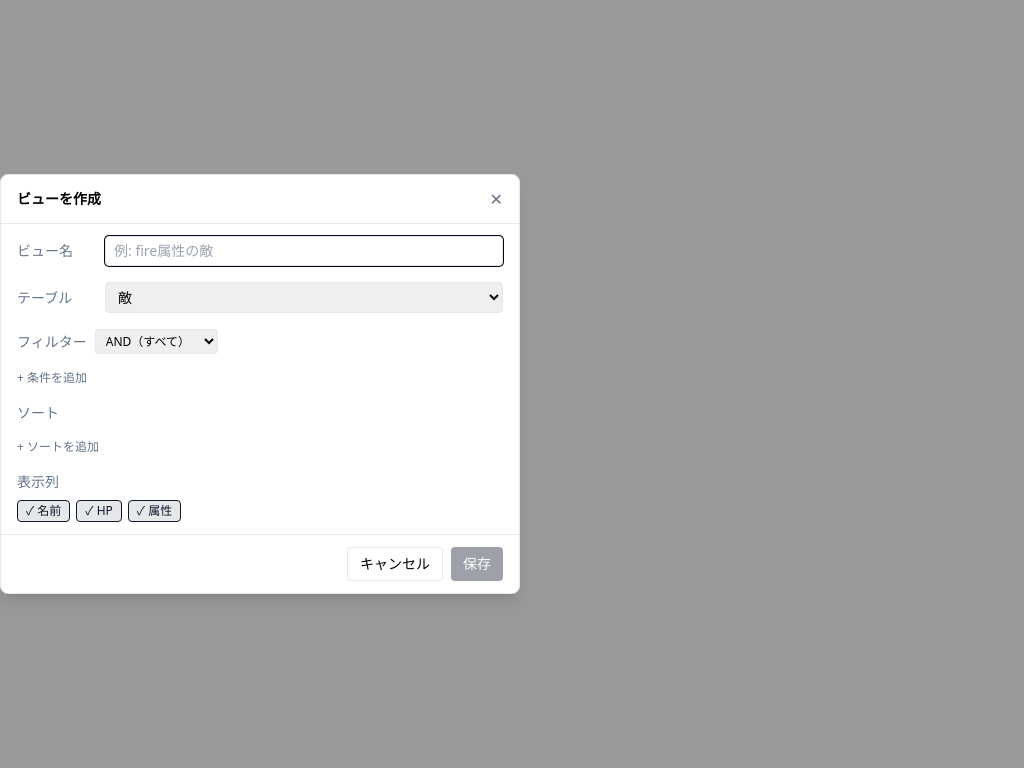
Scenario: FilterViewDialog › 保存ボタンの活性制御 › ビュー名を入力すると保存ボタンが有効になる
The image size is (1024, 768).
Type "My View" into the field with placeholder "例: fire属性の敵".
click(304, 251); type("My View")  # box top-left (105, 236), bottom-right (503, 266)
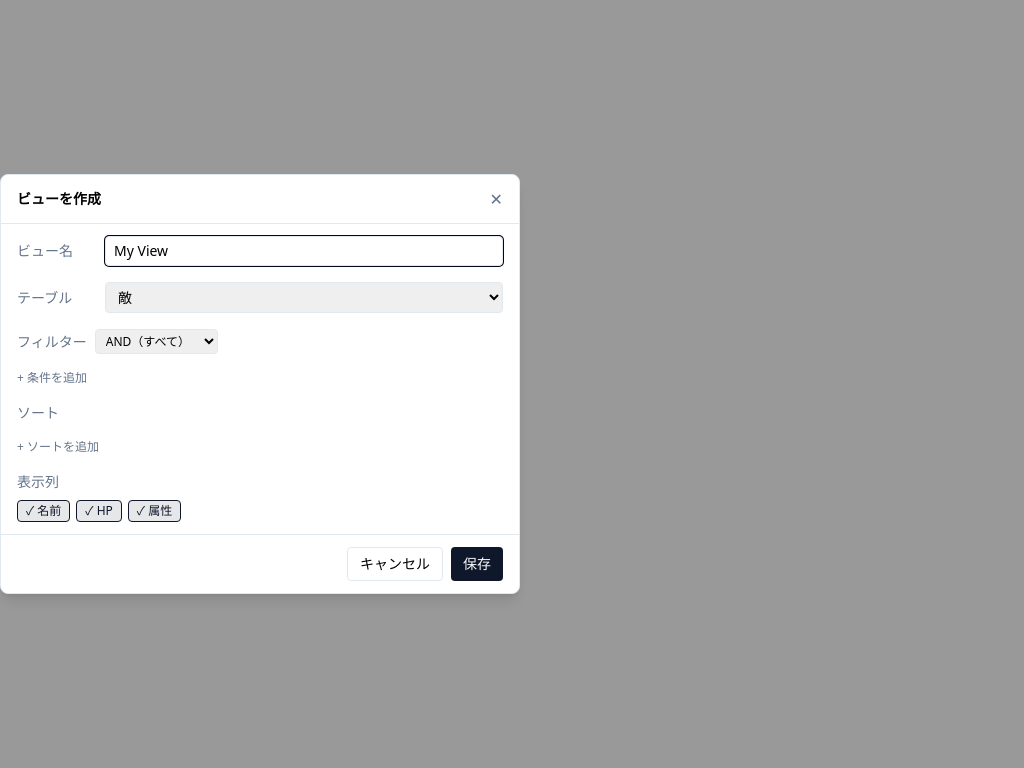
Expected: the button "保存" is enabled, top-left (451, 547), bottom-right (503, 581)
